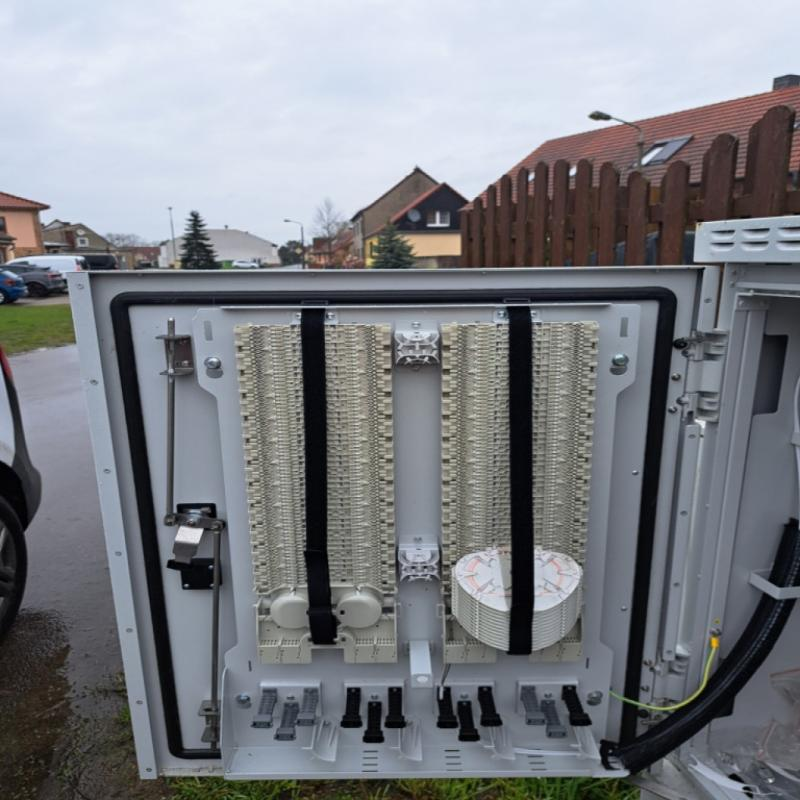NT-Gehause: (73, 215, 799, 800)
Spleiskassetten: (227, 324, 407, 678), (434, 316, 599, 669)
